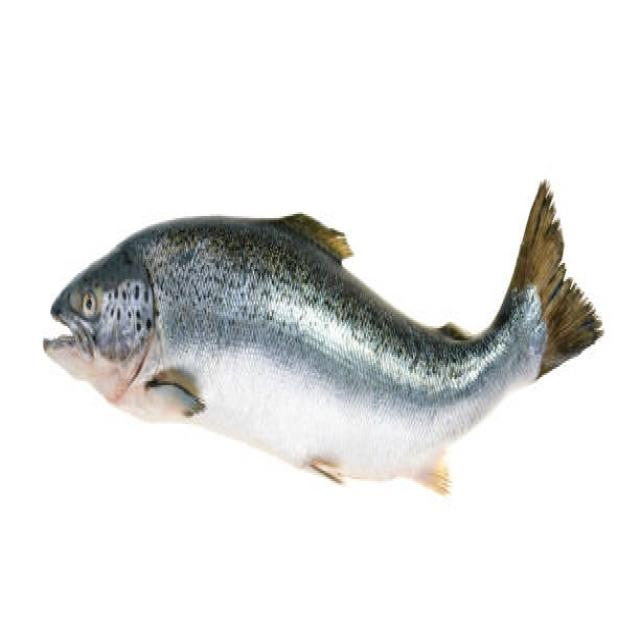salmon: (37, 130, 608, 534)
